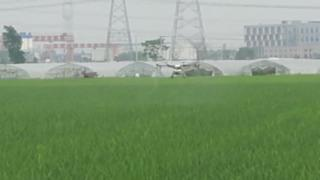UAV: (156, 62, 200, 79)
